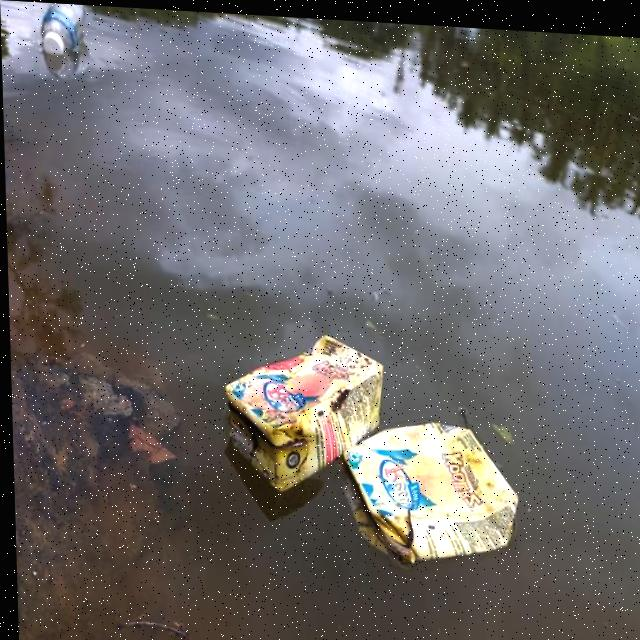paper: (211, 317, 387, 493), (339, 410, 520, 558)
